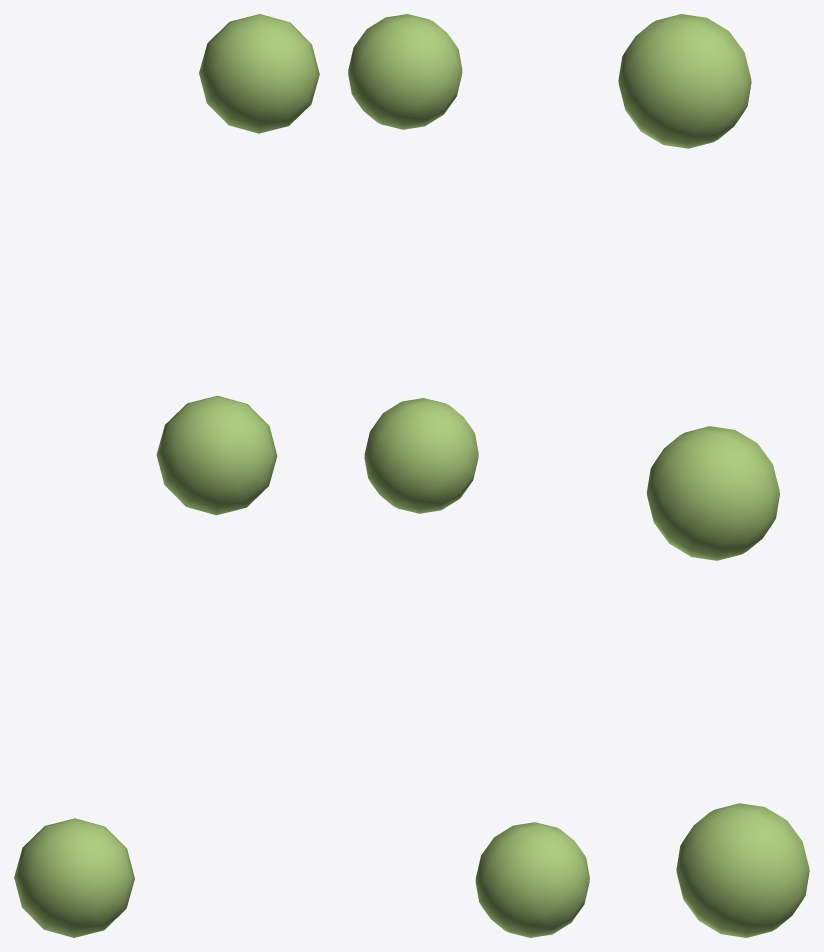
Rendered from pretracheal-nodes-r.glb.
3 renders of one model, left to right at view 1: azimuth 30°, elevation 25°; view 2: azimuth 150°, elevation 25°; view 3: azimuth 270°, elevation 25°, orthographic. The views are drawn at different scales.
Visible parts, largest first — view 1: Pretracheal nodes.r; view 2: Pretracheal nodes.r; view 3: Pretracheal nodes.r.
Boxes of the visible parts, bbox=[...] form: Pretracheal nodes.r: bbox=[14, 14, 319, 937]; Pretracheal nodes.r: bbox=[348, 14, 589, 937]; Pretracheal nodes.r: bbox=[618, 14, 809, 937].
Size of the model in its own units: 0.0065 by 0.0212 by 0.00368.
